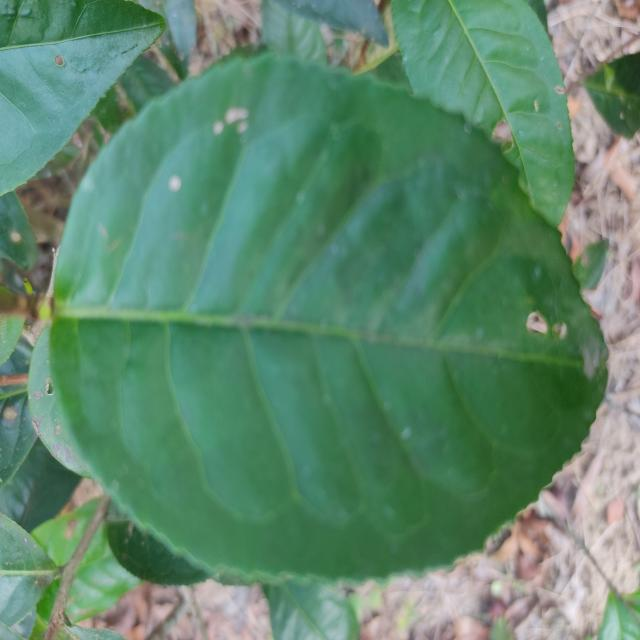Category D(7+ days, Not for Tea): (37, 34, 613, 590)
